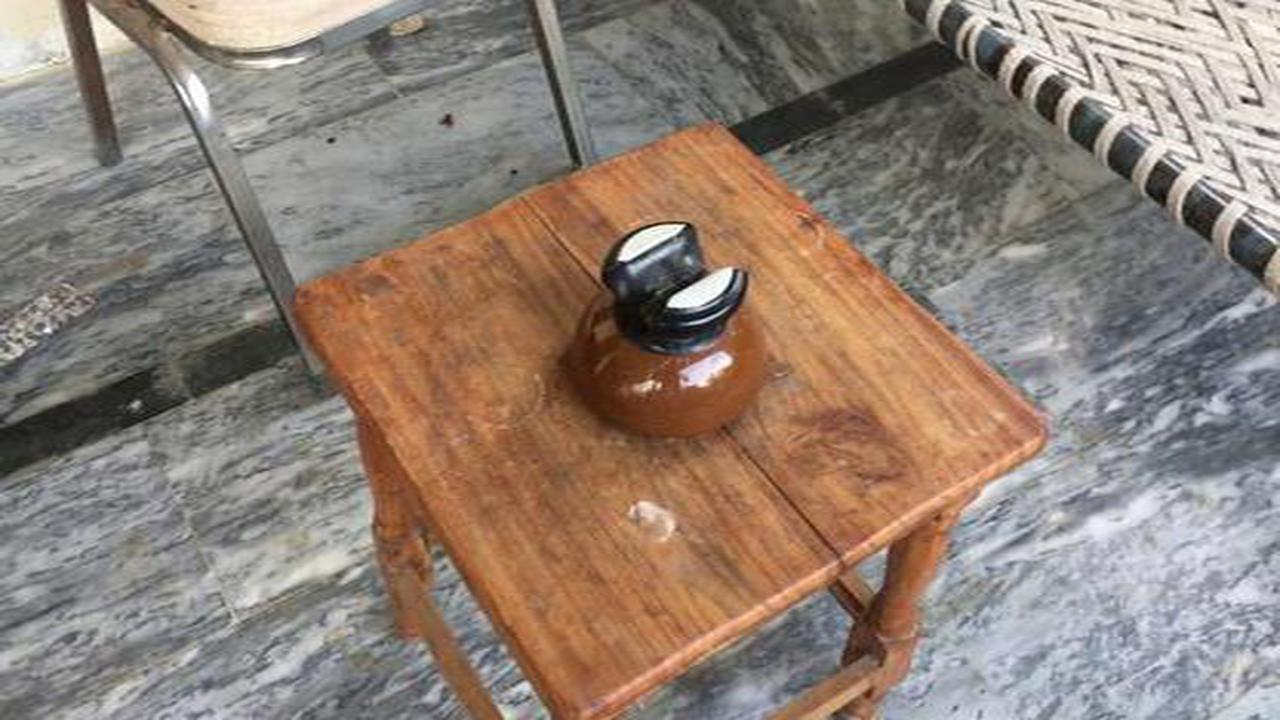insulator_pin: (539, 204, 788, 456)
